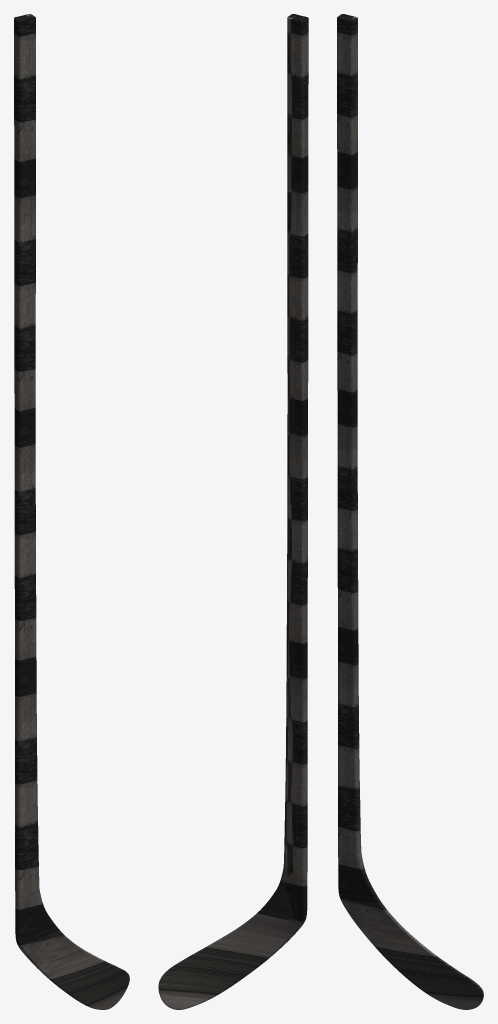
The model's file is P15-SBT.glb.
3 views of the same model, side by side, from view 1: azimuth 30°, elevation 25°; view 2: azimuth 150°, elevation 25°; view 3: azimuth 330°, elevation 25° (orthographic). The views are drawn at different scales.
Visible parts, largest first — view 1: geometry_0; view 2: geometry_0; view 3: geometry_0.
Part boxes in pixels (left/top/right/bottom): geometry_0: left=14, top=14, right=129, bottom=1009; geometry_0: left=158, top=14, right=308, bottom=1009; geometry_0: left=337, top=14, right=483, bottom=1009.
Size of the model in its own units: 222 by 1650 by 72.32.
1 material, 1 textured.
